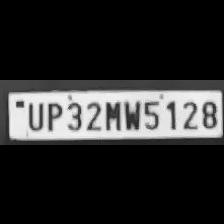1: (162, 97, 178, 129)
2: (178, 97, 198, 129), (84, 97, 103, 129)
3: (63, 98, 83, 130)
5: (140, 96, 162, 130)
8: (198, 97, 218, 129)
M: (102, 97, 120, 130)
P: (43, 99, 63, 130)
U: (23, 99, 43, 130)
W: (122, 96, 140, 130)
